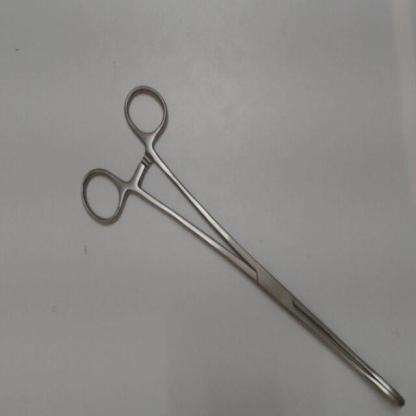Sponge Forceps: (73, 70, 412, 414)
